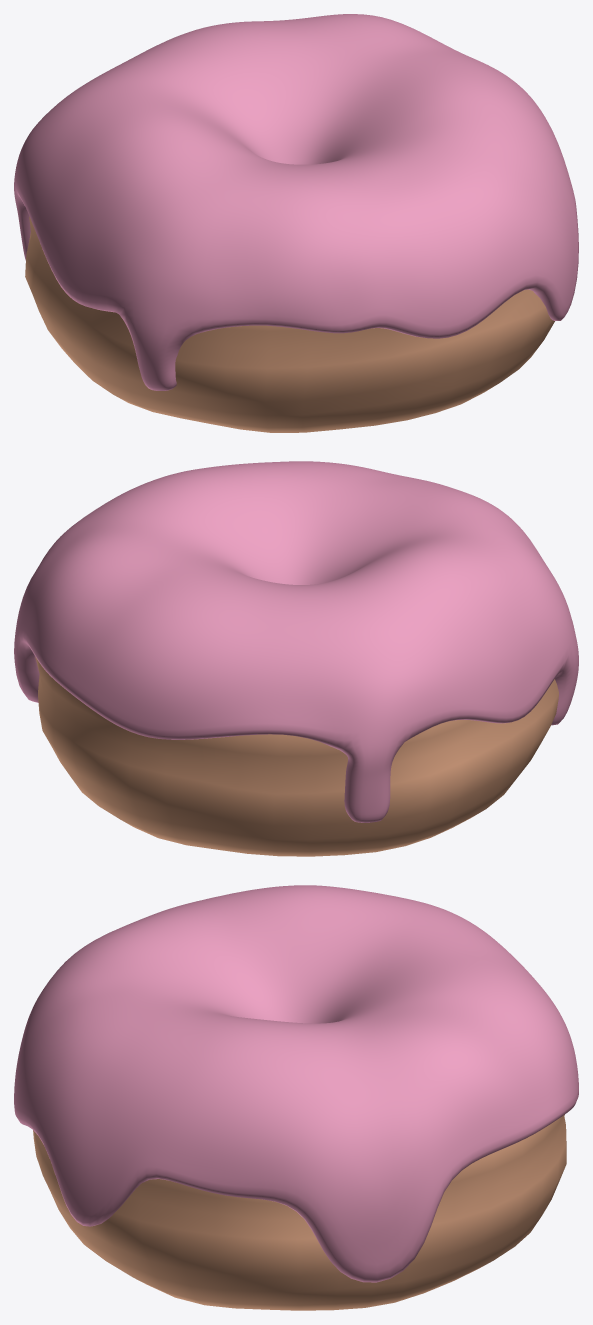
The model's file is jakegreenedonut.gltf.
3 views of the same model, one above another, from view 1: azimuth 30°, elevation 25°; view 2: azimuth 150°, elevation 25°; view 3: azimuth 270°, elevation 25° (orthographic). The views are drawn at different scales.
Parts seen in each view (by area): view 1: icing, donut; view 2: icing, donut; view 3: icing, donut.
Part boxes in pixels (left/top/right/bottom): icing: left=14, top=14, right=578, bottom=390; donut: left=25, top=216, right=554, bottom=432; icing: left=14, top=461, right=578, bottom=822; donut: left=35, top=657, right=558, bottom=856; icing: left=14, top=885, right=578, bottom=1282; donut: left=33, top=1114, right=566, bottom=1310.
Size of what is drawn, in the model's own units: 1.72 by 0.8827 by 1.72.
